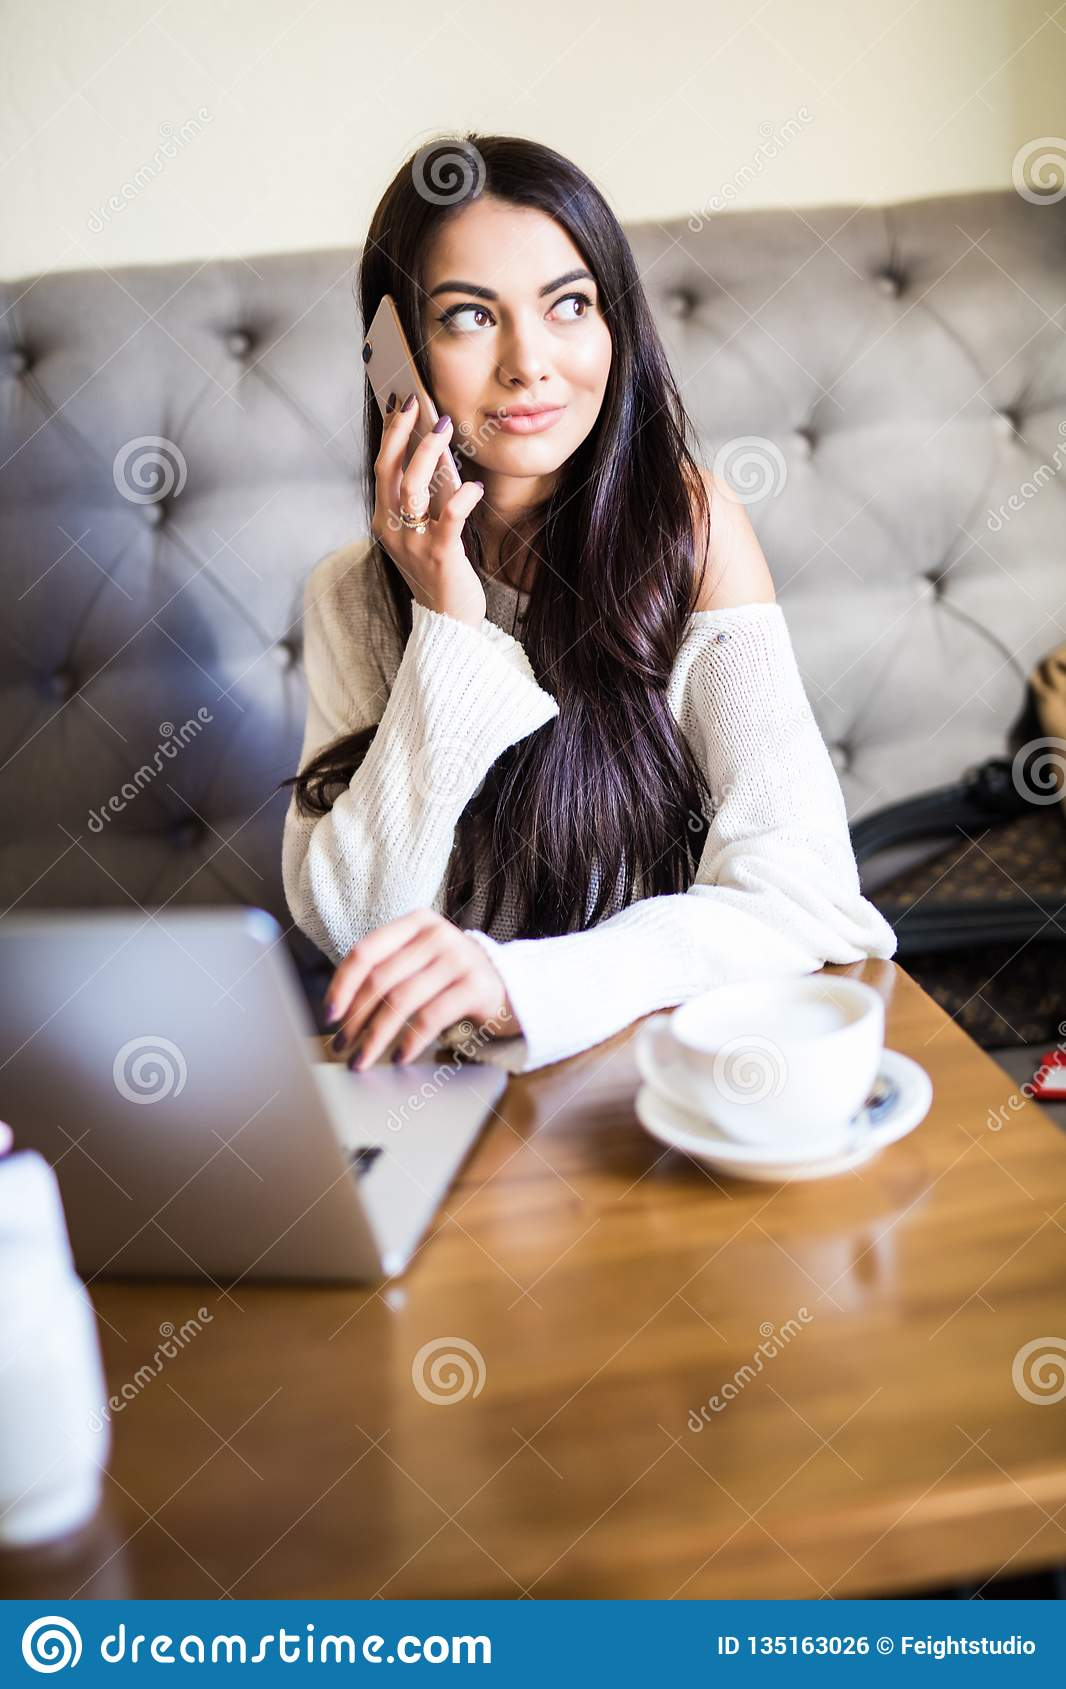phone: (359, 290, 469, 538)
talk: (350, 268, 617, 625)
